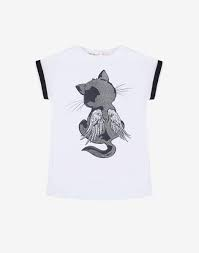cat: (70, 65, 128, 111)
